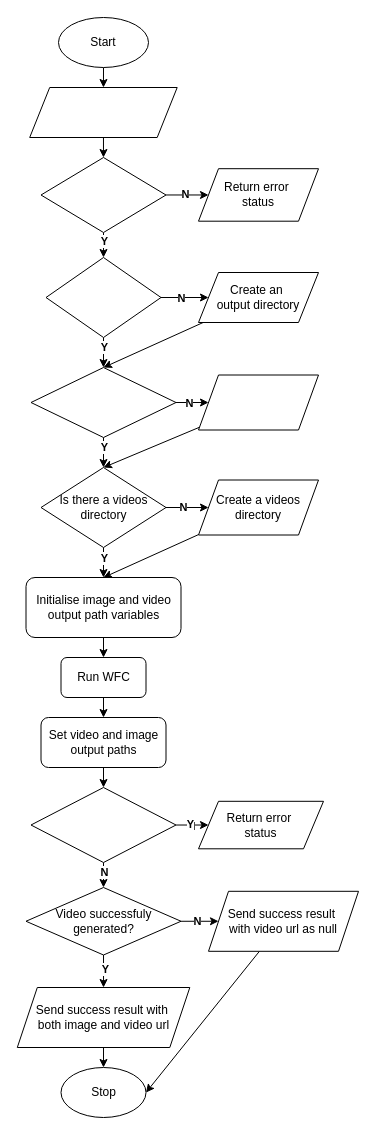
Image size: 377x1135. Some labels were removed from this diagram. Each missing label, with the box of its shape:
Create an images directory: (198, 374, 318, 430)
Error encountered in collapse?: (30, 786, 176, 862)
Is there a file attached?: (40, 156, 166, 232)
Is there an images directory: (30, 366, 176, 438)
Is there an output path?: (45, 256, 161, 338)
Retrieve data from post request: (29, 86, 177, 138)
